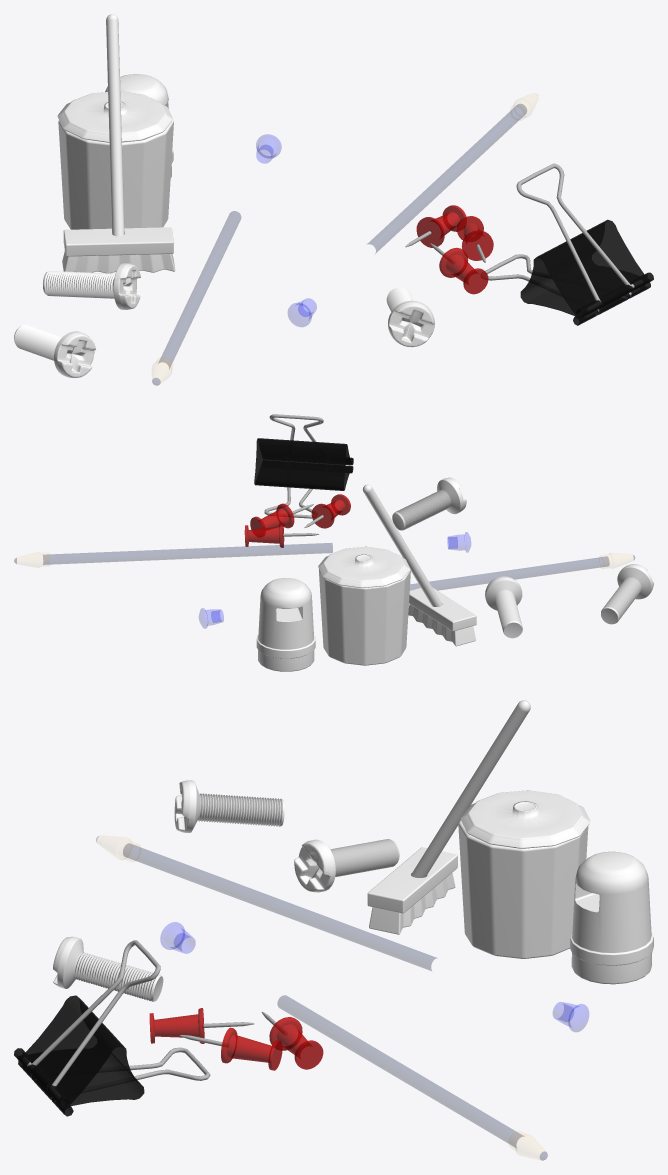
The model's file is Floor_Junk_Cluster_01.glb.
3 renders of one model, top to bottom at view 1: azimuth 30°, elevation 25°; view 2: azimuth 150°, elevation 25°; view 3: azimuth 270°, elevation 25°, orthographic. The views are drawn at different scales.
Visible parts, largest first — view 1: Floor_Junk_Cluster_01_Clip1, pCylinder96, Pen_01_InkTube (×2), pCylinder97, pCube100, pCylinder110, Floor_Junk_Cluster_01_Bolt1, Floor_Junk_Cluster_01_Bolt2, Floor_Junk_Cluster_01_Bolt3, pCube101, Floor_Junk_Cluster_01_Pin3, Floor_Junk_Cluster_01_Pin1 (+3 smaller); view 2: pCylinder96, Floor_Junk_Cluster_01_Clip1, Floor_Junk_Cluster_01_Recycle1, Pen_01_InkTube (×2), pCylinder97, Floor_Junk_Cluster_01_Bolt3, Floor_Junk_Cluster_01_Bolt2, Floor_Junk_Cluster_01_Bolt1, pCube100, pCylinder110, pCube101, Floor_Junk_Cluster_01_Pin3 (+3 smaller); view 3: pCylinder96, Floor_Junk_Cluster_01_Clip1, Floor_Junk_Cluster_01_Recycle1, Pen_01_InkTube (×2), pCylinder97, Floor_Junk_Cluster_01_Bolt1, Floor_Junk_Cluster_01_Bolt2, Floor_Junk_Cluster_01_Bolt3, pCylinder110, pCube100, Floor_Junk_Cluster_01_Pin2, Floor_Junk_Cluster_01_Pin1 (+3 smaller).
Part boxes in pixels (x1,y1,x2,y2): Floor_Junk_Cluster_01_Clip1: [481, 163, 653, 325]; pCylinder96: [58, 119, 173, 229]; Pen_01_InkTube (×2): [158, 104, 526, 368]; pCylinder97: [57, 91, 172, 142]; pCube100: [63, 227, 173, 256]; pCylinder110: [106, 14, 124, 236]; Floor_Junk_Cluster_01_Bolt1: [43, 263, 140, 309]; Floor_Junk_Cluster_01_Bolt2: [14, 324, 95, 377]; Floor_Junk_Cluster_01_Bolt3: [386, 287, 434, 347]; pCube101: [62, 251, 175, 273]; Floor_Junk_Cluster_01_Pin3: [430, 243, 488, 294]; Floor_Junk_Cluster_01_Pin1: [405, 205, 466, 247]; pCylinder96: [319, 568, 410, 665]; Floor_Junk_Cluster_01_Clip1: [254, 414, 353, 518]; Floor_Junk_Cluster_01_Recycle1: [256, 578, 315, 671]; Pen_01_InkTube (×2): [43, 543, 609, 590]; pCylinder97: [318, 546, 409, 587]; Floor_Junk_Cluster_01_Bolt3: [392, 477, 466, 530]; Floor_Junk_Cluster_01_Bolt2: [601, 564, 653, 624]; Floor_Junk_Cluster_01_Bolt1: [485, 576, 522, 638]; pCube100: [409, 587, 476, 631]; pCylinder110: [362, 484, 442, 606]; pCube101: [408, 604, 475, 646]; Floor_Junk_Cluster_01_Pin3: [304, 494, 350, 528]; pCylinder96: [458, 820, 588, 958]; Floor_Junk_Cluster_01_Clip1: [14, 940, 210, 1116]; Floor_Junk_Cluster_01_Recycle1: [570, 851, 653, 984]; Pen_01_InkTube (×2): [123, 843, 523, 1147]; pCylinder97: [460, 790, 590, 848]; Floor_Junk_Cluster_01_Bolt1: [294, 839, 399, 892]; Floor_Junk_Cluster_01_Bolt2: [174, 780, 284, 832]; Floor_Junk_Cluster_01_Bolt3: [53, 936, 163, 1001]; pCylinder110: [411, 700, 530, 877]; pCube100: [367, 847, 457, 913]; Floor_Junk_Cluster_01_Pin2: [179, 1027, 282, 1070]; Floor_Junk_Cluster_01_Pin1: [261, 1011, 323, 1069].
Size of the model in its own units: 0.2027 by 0.0624 by 0.1555.
